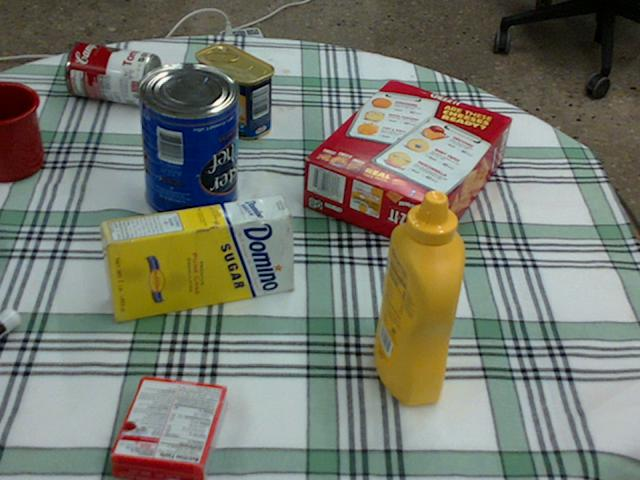cracker_box: (304, 80, 511, 253)
gelatin_box: (110, 376, 225, 479)
large_marker: (0, 307, 20, 337)
master_chef_can: (135, 63, 237, 225)
mug: (0, 80, 45, 179)
mustard_bottle: (374, 190, 464, 403)
potted_meat_can: (195, 44, 274, 138)
sugar_box: (99, 196, 293, 321)
tomato_soup_can: (65, 42, 161, 105)
